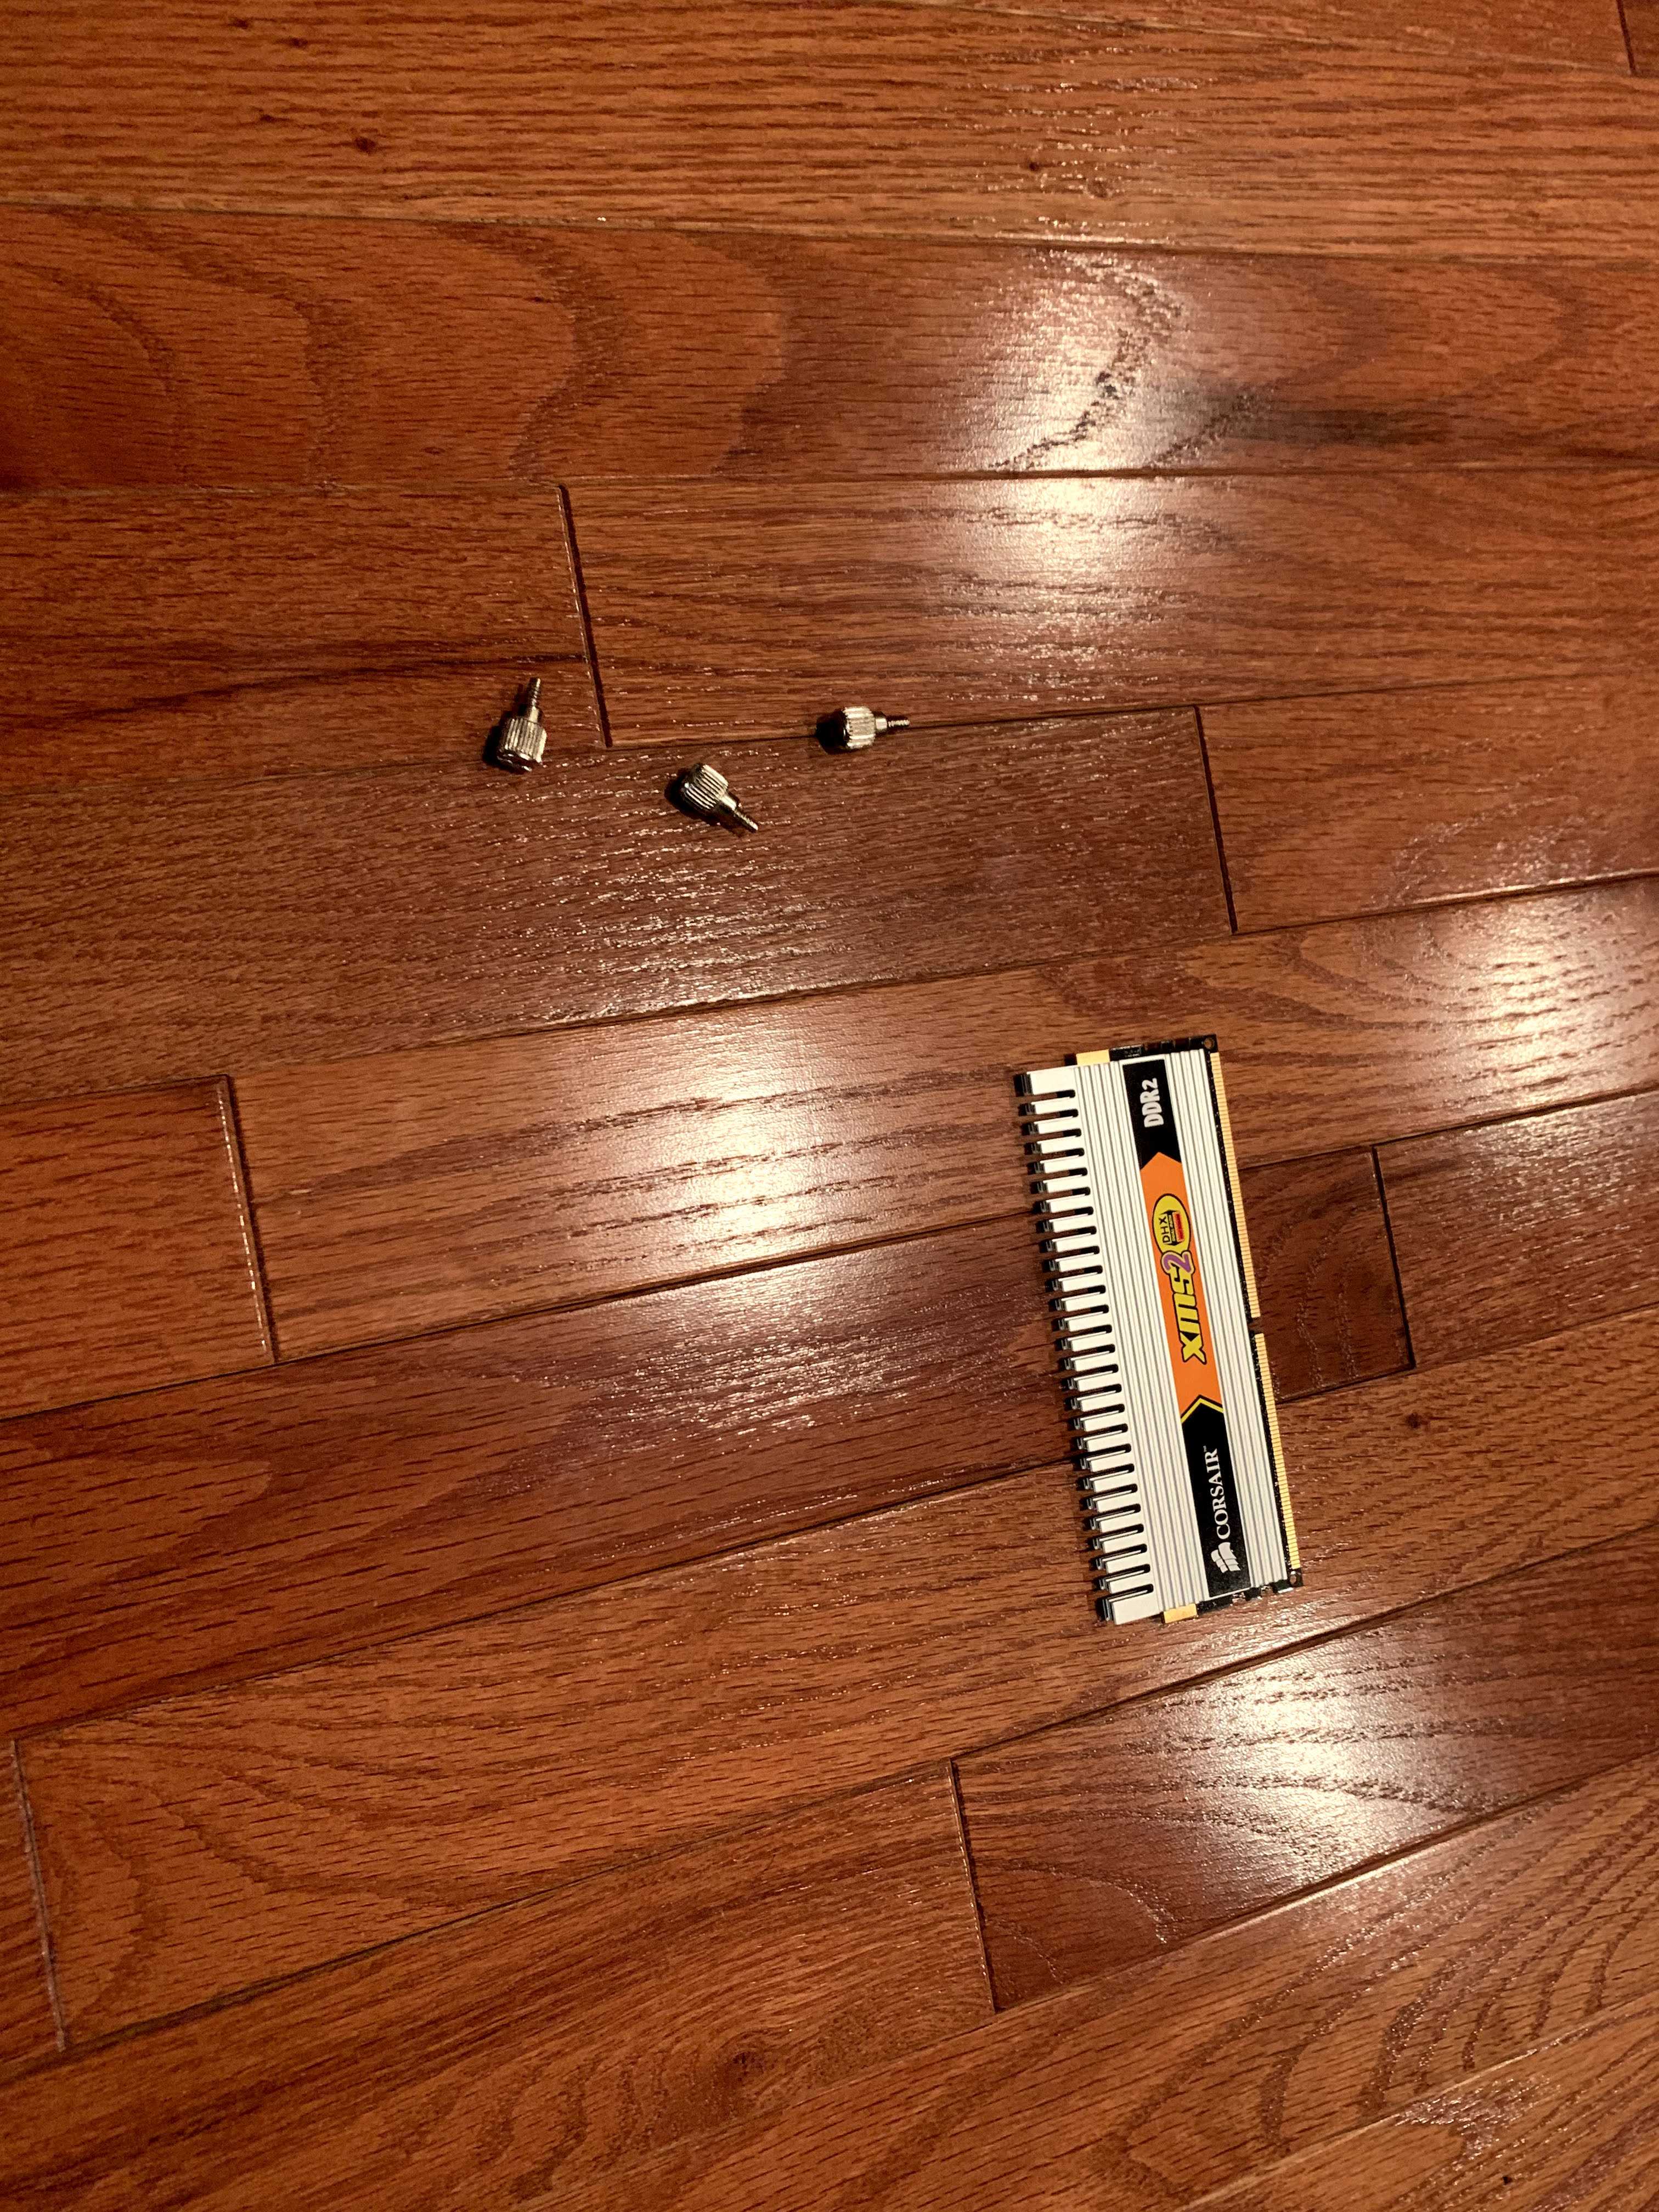Space-debris-medium: (1006, 1031, 1312, 1623)
Space-debris-small: (673, 761, 760, 838), (491, 671, 556, 772), (824, 704, 913, 751)
